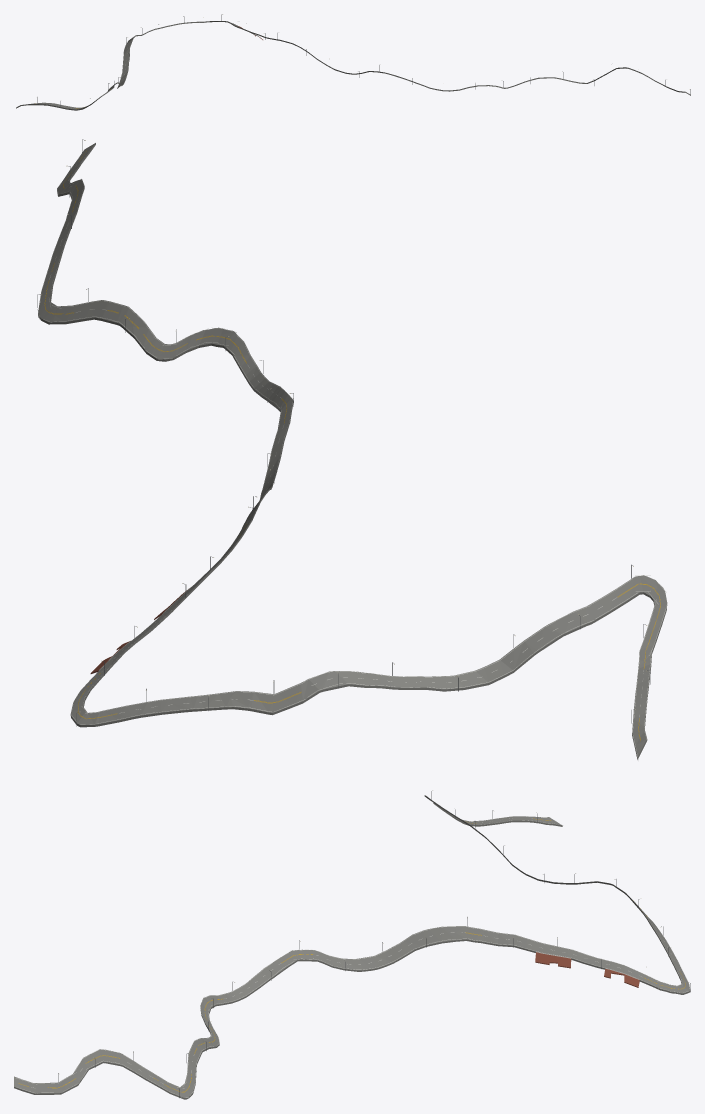
The picture shows the model from 3 angles, top to bottom: view 1: azimuth 30°, elevation 25°; view 2: azimuth 150°, elevation 25°; view 3: azimuth 270°, elevation 25°; orthographic projection. The views are drawn at different scales.
Bounding box in the file's own units: 542 × 66.97 × 483.
